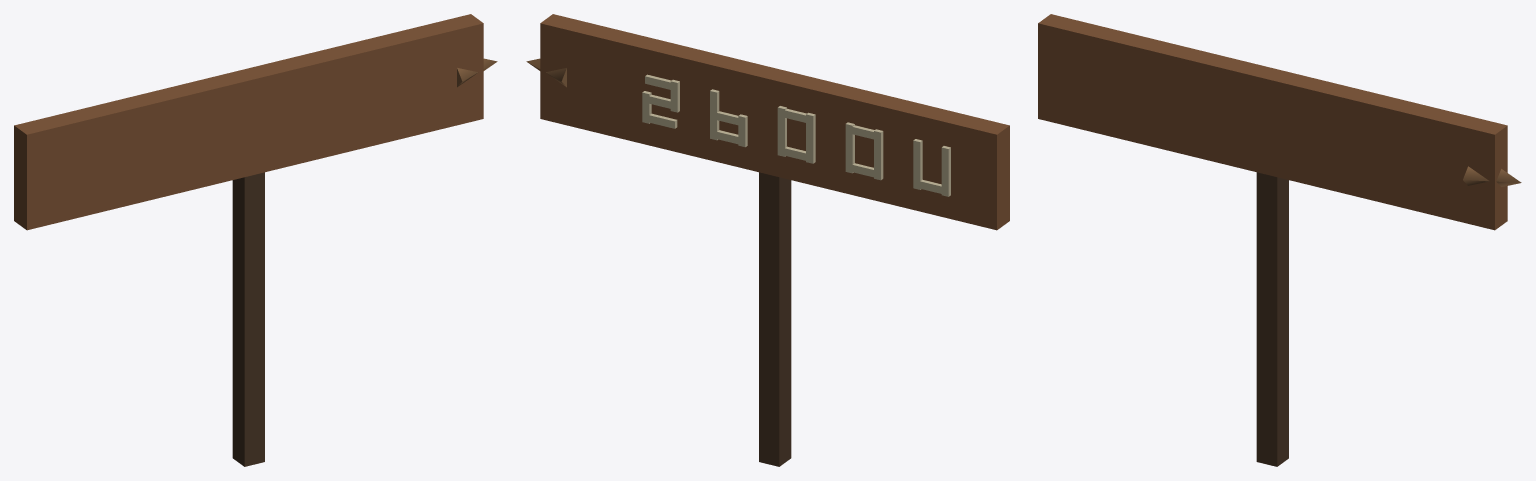
Rendered from sign_woods.glb.
3 views of the same model, side by side, from view 1: azimuth 30°, elevation 25°; view 2: azimuth 150°, elevation 25°; view 3: azimuth 330°, elevation 25° (orthographic).
Visible parts, largest first — view 1: sign_woods_LOD0; view 2: sign_woods_LOD0; view 3: sign_woods_LOD0.
Boxes of the visible parts, left/top/right/bottom form: sign_woods_LOD0: left=14, top=14, right=497, bottom=466; sign_woods_LOD0: left=526, top=14, right=1009, bottom=466; sign_woods_LOD0: left=1038, top=14, right=1521, bottom=466.
Size of what is drawn, in the model's own units: 3.03 by 2.34 by 0.26.
